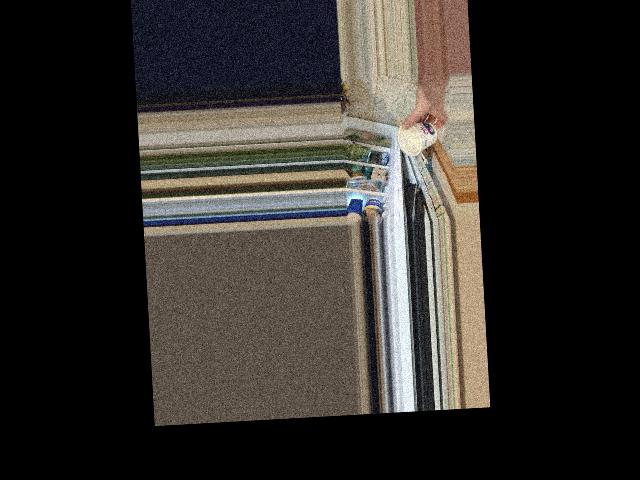cotage: (403, 121, 436, 154)
